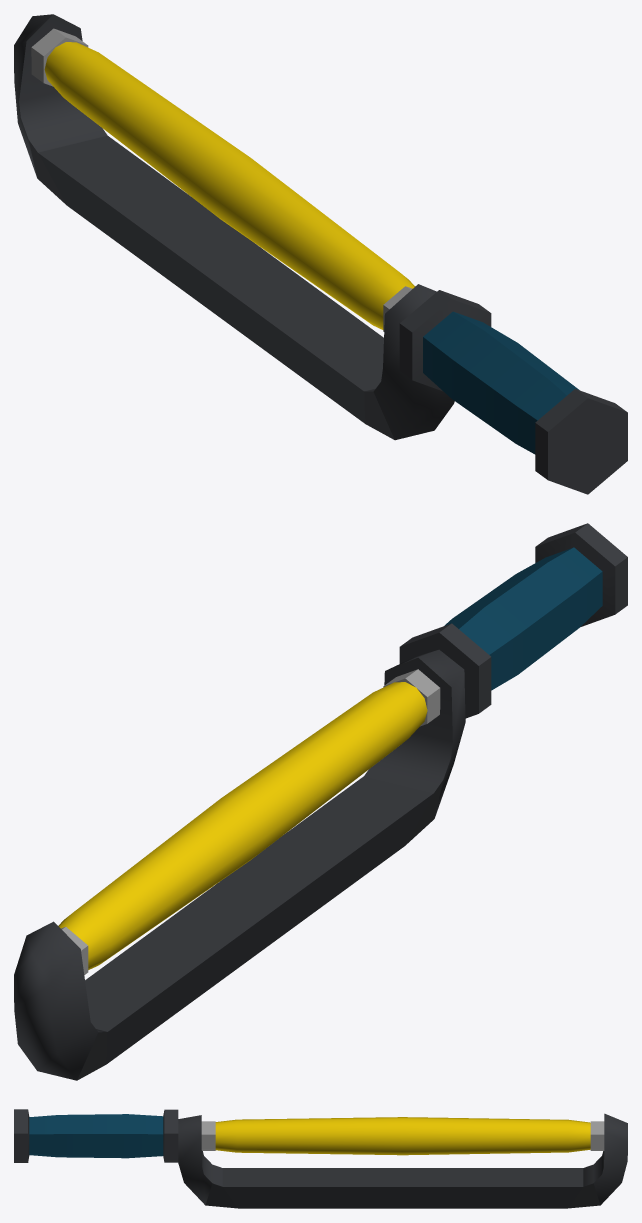
Rendered from salvage_sword.fbx.
3 renders of one model, top to bottom at view 1: azimuth 30°, elevation 25°; view 2: azimuth 150°, elevation 25°; view 3: azimuth 270°, elevation 25°, orthographic. The views are drawn at different scales.
Parts seen in each view (by area): view 1: Cylinder.002; view 2: Cylinder.002; view 3: Cylinder.002.
Boxes of the visible parts, x1,y1,x2,y2 form: Cylinder.002: [14, 14, 627, 494]; Cylinder.002: [14, 523, 627, 1080]; Cylinder.002: [14, 1109, 627, 1208].
Bounding box in the file's own units: 229 × 464 × 2754.
